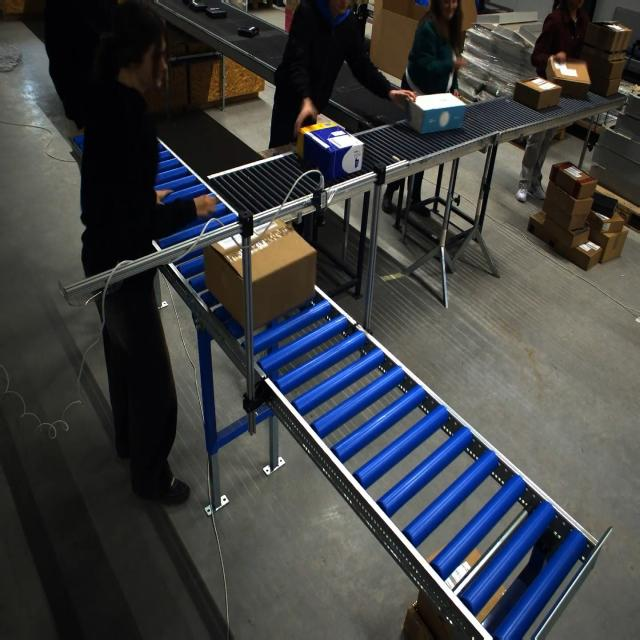box: (204, 219, 314, 331), (298, 123, 351, 183), (405, 91, 466, 135)
product: (205, 6, 227, 19), (237, 25, 259, 38), (189, 0, 208, 12)
